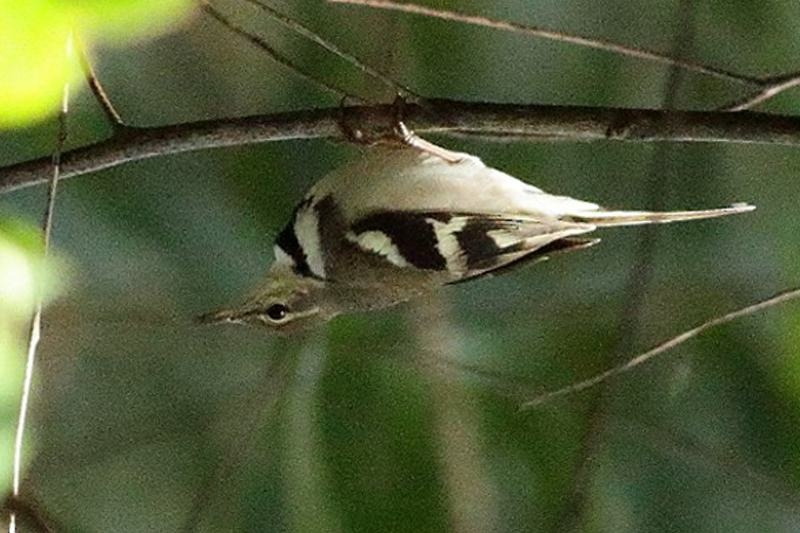wagtail: (206, 133, 741, 352)
